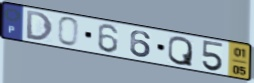0: (56, 16, 83, 48)
5: (201, 39, 225, 73)
6: (97, 22, 120, 55), (130, 29, 153, 59)
D: (26, 9, 55, 42)
Q: (166, 36, 195, 68)
